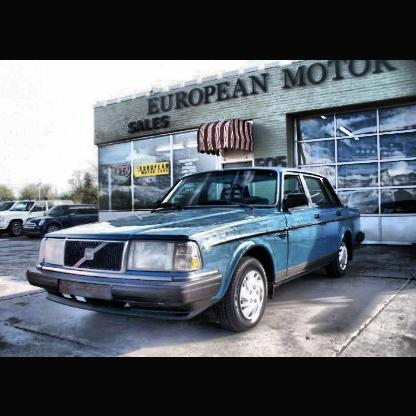Volvo 240 Sedan 1993: (25, 165, 369, 333)
